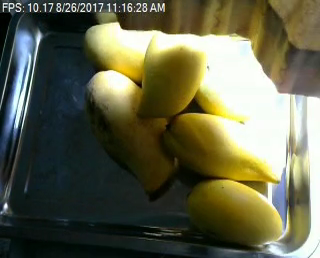Mango: (84, 69, 179, 193), (163, 112, 281, 185), (187, 180, 283, 246), (134, 31, 206, 115), (187, 54, 253, 123), (83, 22, 143, 82)
